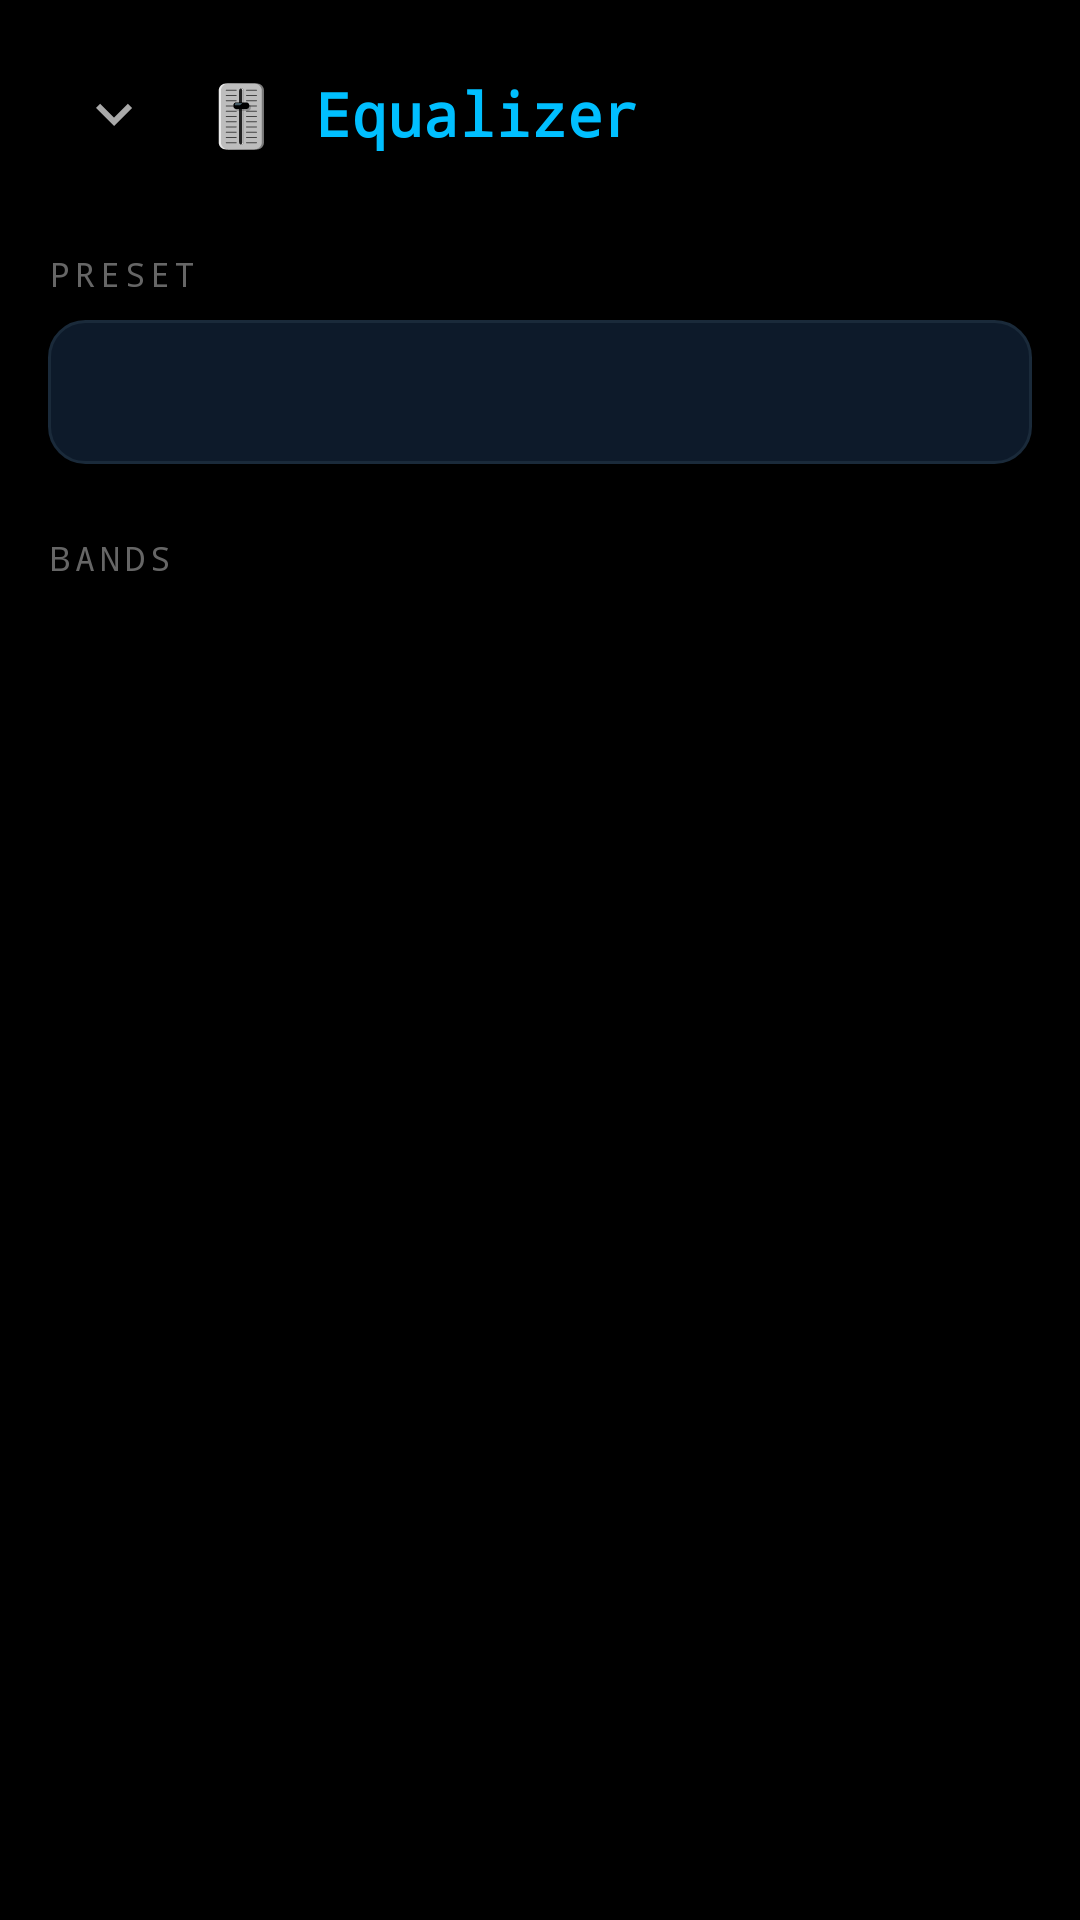

Where icons sit on this 1080×1920 app screen, as {"left": x1, "top": y1, "right": x2, "bottom": y2}:
arrow down: {"left": 96, "top": 104, "right": 132, "bottom": 126}
